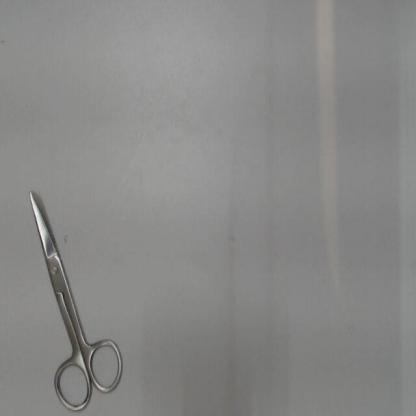Dressing Scissors: (17, 168, 132, 414)
